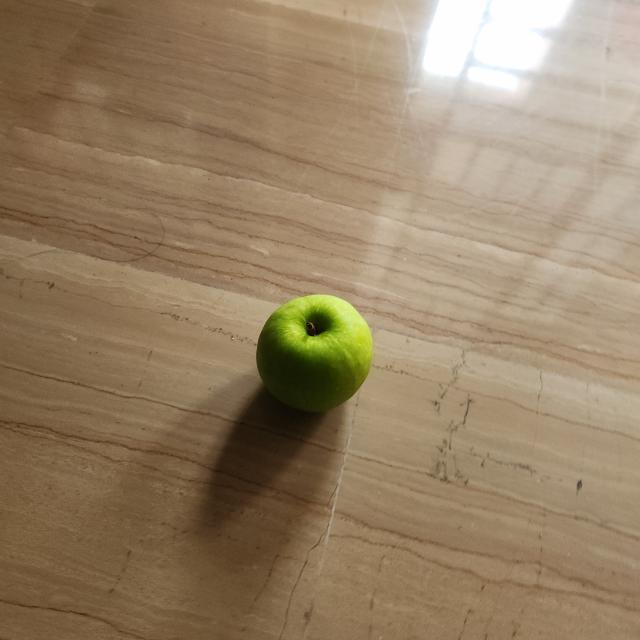apple: (248, 288, 379, 424)
